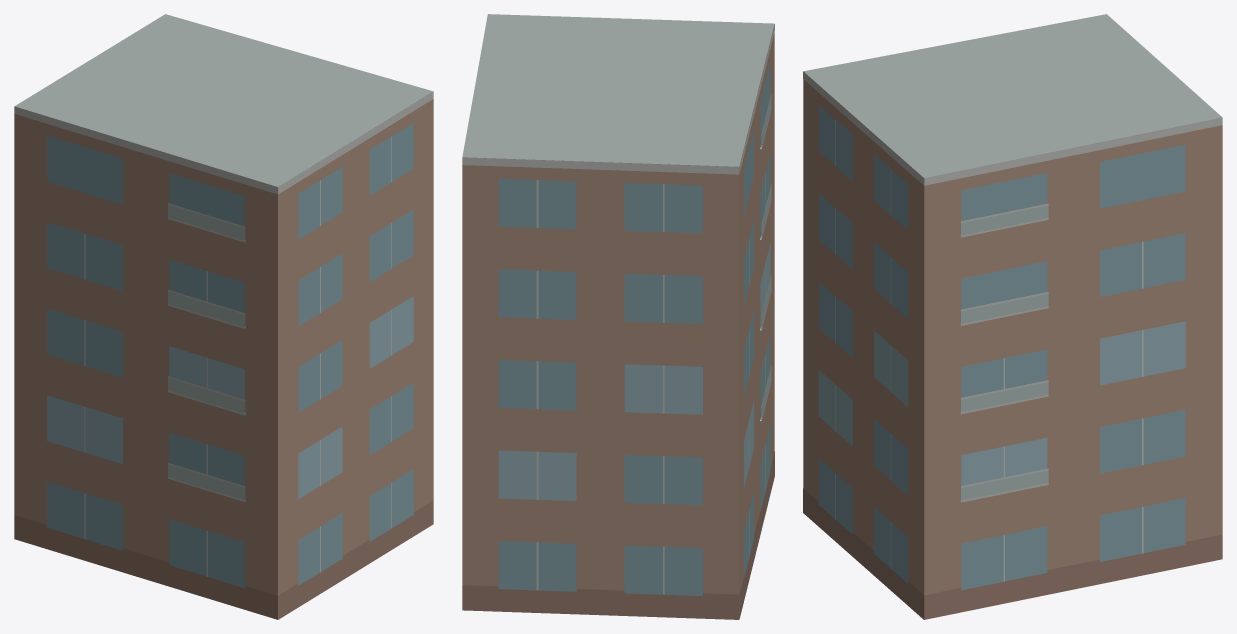
File: survey-upis-32489995.glb
3 views of the same model, side by side, from view 1: azimuth 30°, elevation 25°; view 2: azimuth 150°, elevation 25°; view 3: azimuth 270°, elevation 25° (orthographic). The views are drawn at different scales.
Visible parts, largest first — view 1: survey-upis-32489995.tmp; view 2: survey-upis-32489995.tmp; view 3: survey-upis-32489995.tmp.
Part boxes in pixels (box(x1,y1,x2,y2)): survey-upis-32489995.tmp: box(14, 14, 433, 619); survey-upis-32489995.tmp: box(462, 14, 774, 619); survey-upis-32489995.tmp: box(803, 14, 1222, 619).
Size of the model in its own units: 11.33 by 14.2 by 12.23.
